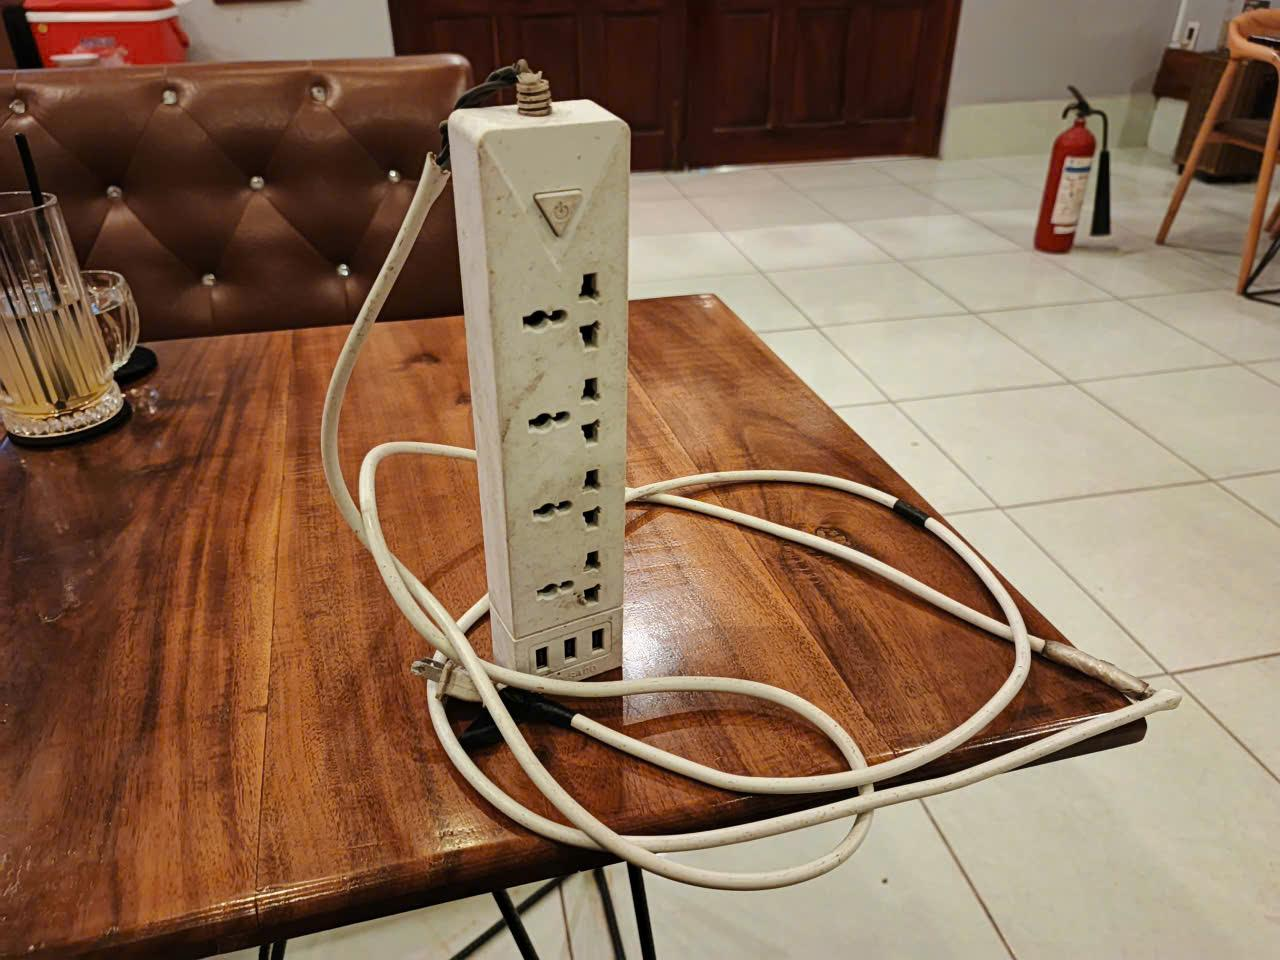Con lai: (314, 61, 632, 692)
